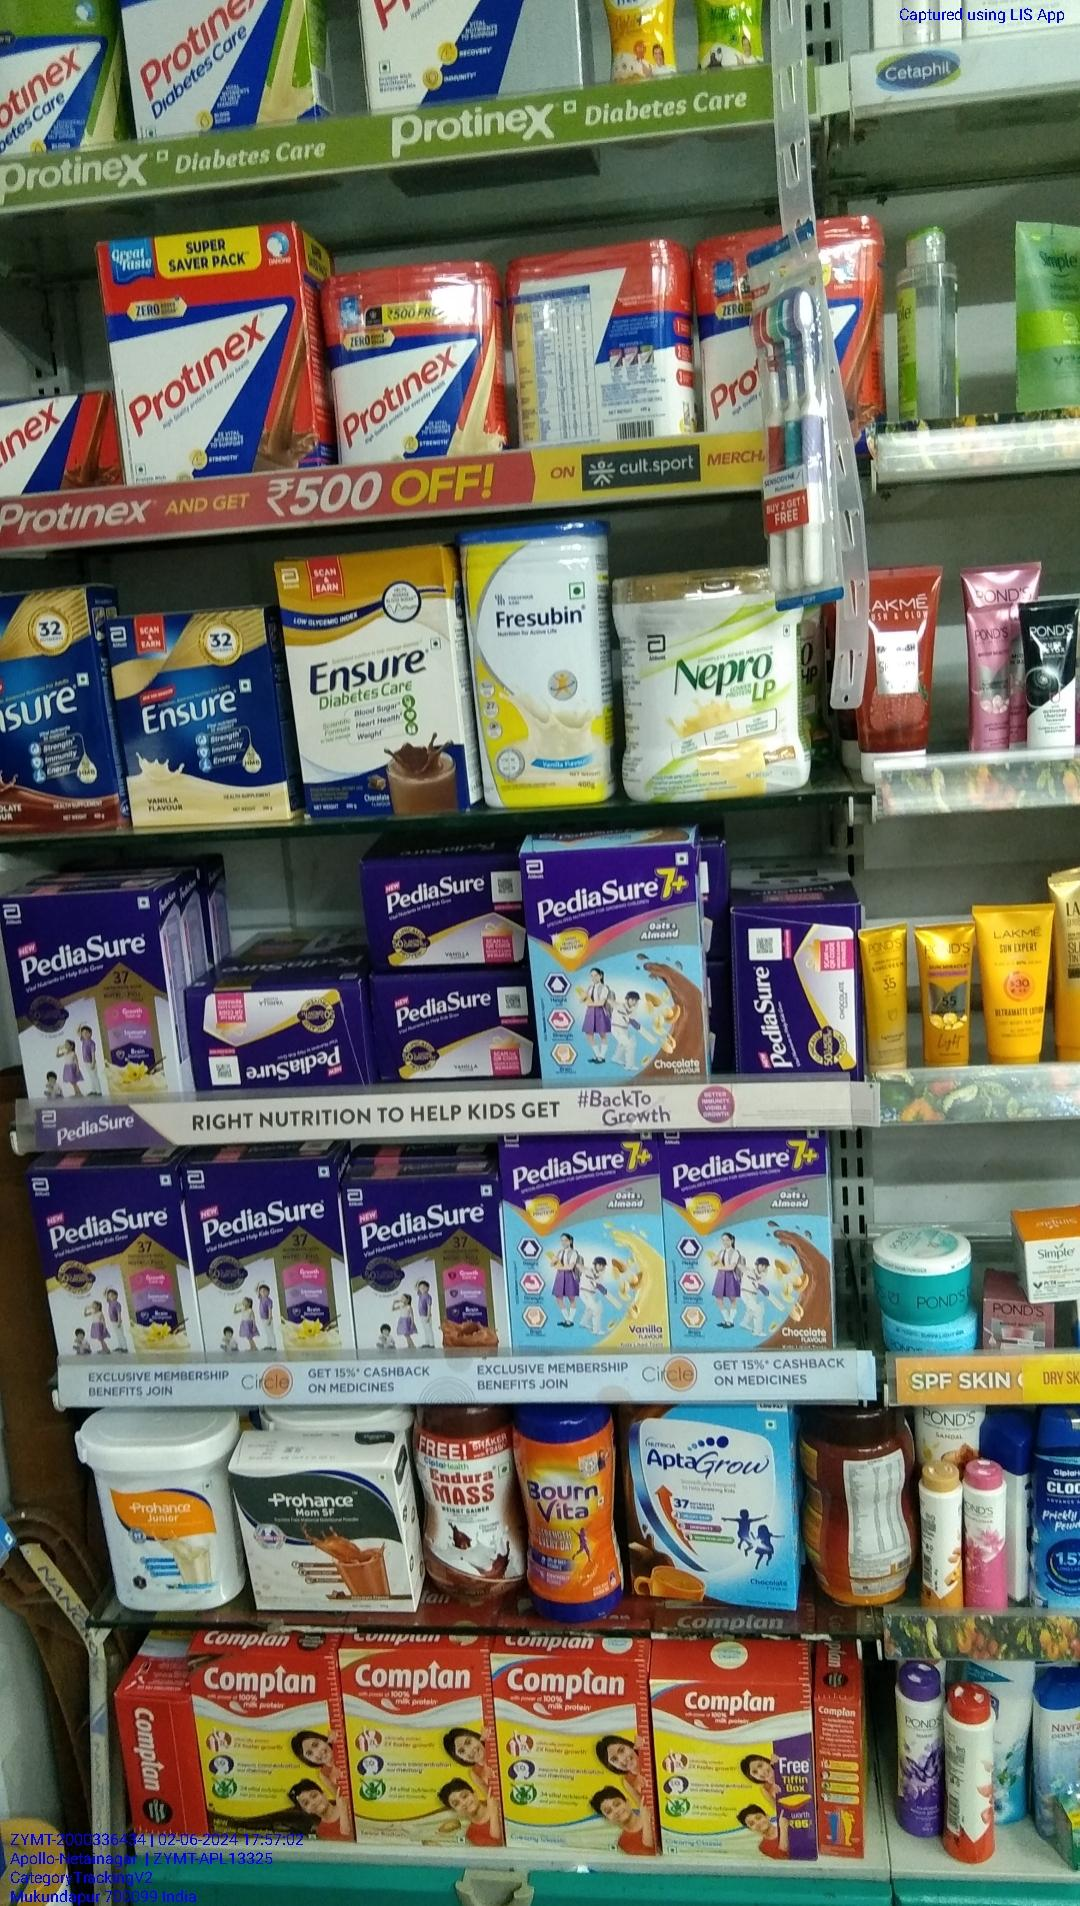ENSURE_VANILLA_400_G_PACK: (123, 615, 279, 819)
PEDIASURE_7_PLUS_CHOCOLATE_400_G_PACK: (521, 842, 704, 1087), (670, 1128, 837, 1354), (500, 1130, 665, 1356)
PEDIASURE_VANILLA_500_G_PACK: (31, 1162, 181, 1373), (189, 1164, 340, 1371)
PROTINEX_VANILLA_400_G_JAR: (327, 264, 508, 461)
